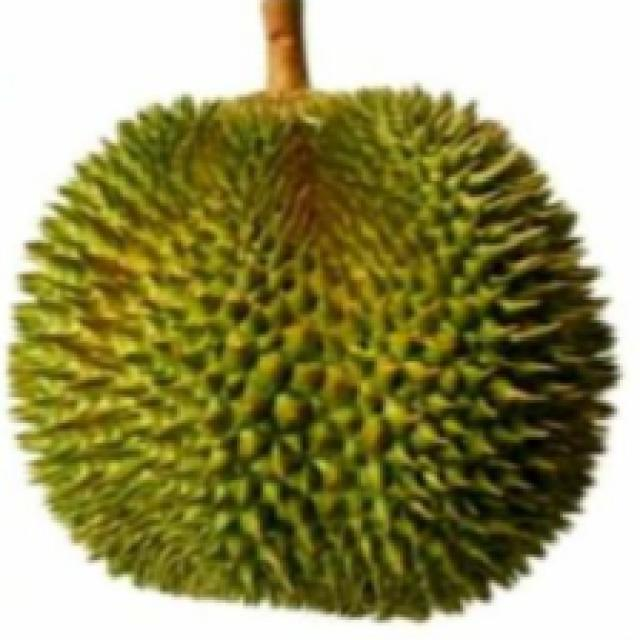d101: (53, 95, 603, 606)
